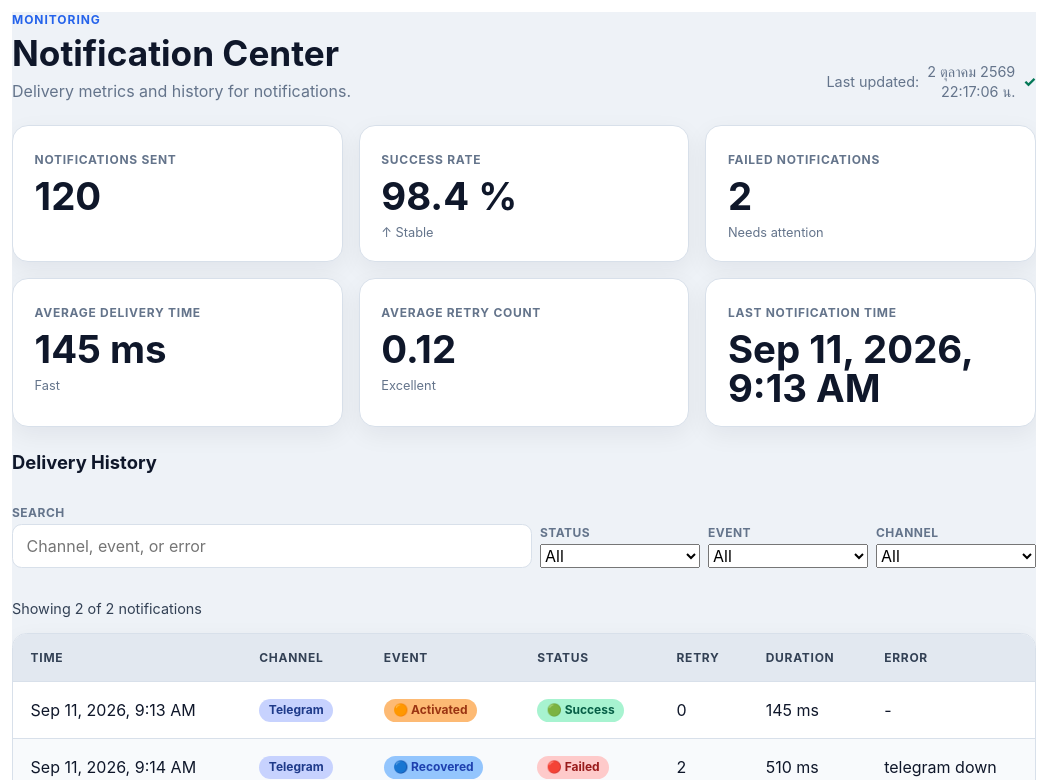
Test: Notification Center page › matches delivery search case-insensitively
Type "TELEGRAM DOWN" into the search field labelled "Search". click: (272, 546)
box: [12,524,532,568]
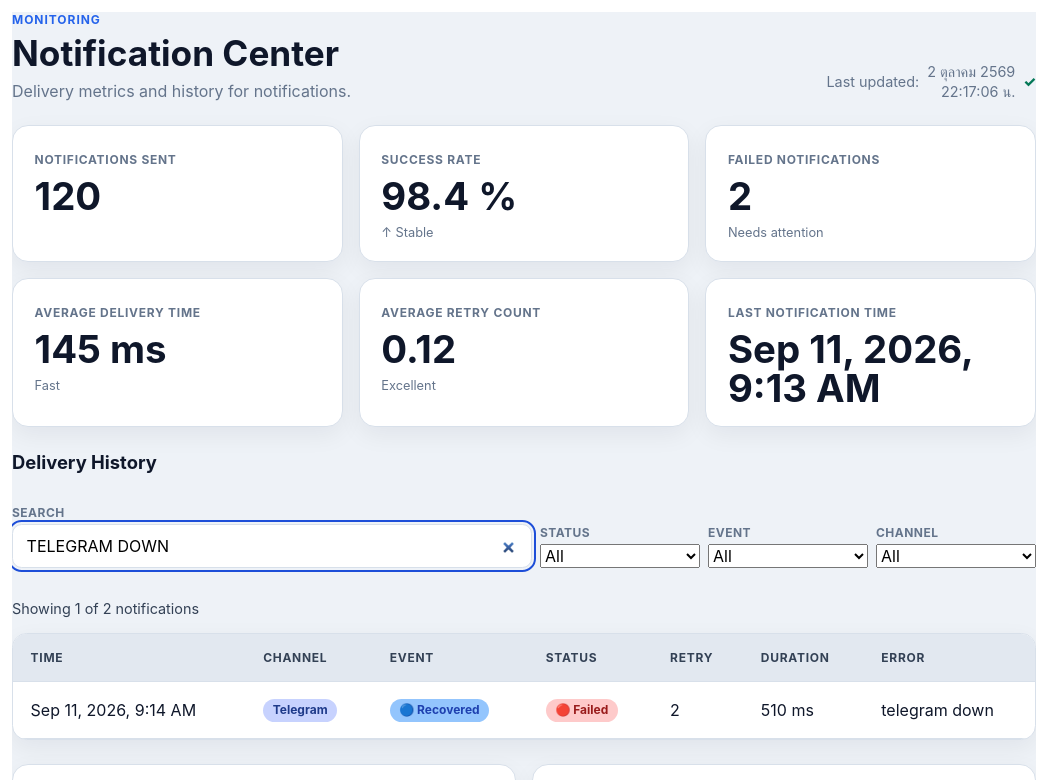
Expected: the text "telegram down" is shown, [864,682,1035,739]
Result: the text "Showing 1 of 2 notifications" is shown at [12,600,199,618]
